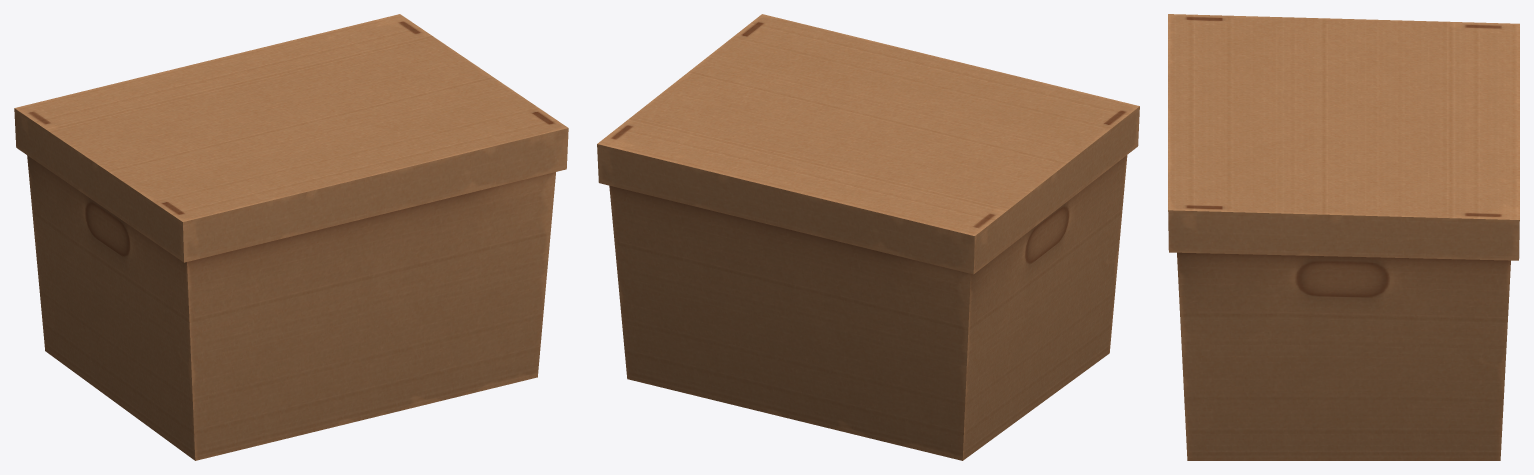
File: OfficeBox01_1.FBX
The picture shows the model from 3 angles, left to right: view 1: azimuth 30°, elevation 25°; view 2: azimuth 150°, elevation 25°; view 3: azimuth 270°, elevation 25°; orthographic projection. The views are drawn at different scales.
Parts seen in each view (by area): view 1: OfficeBox01_1; view 2: OfficeBox01_1; view 3: OfficeBox01_1.
Part boxes in pixels (<box>): OfficeBox01_1: <box>14,14,568,460</box>; OfficeBox01_1: <box>597,14,1139,460</box>; OfficeBox01_1: <box>1168,14,1519,460</box>.
Size of what is drawn, in the model's own units: 0.4115 by 0.2557 by 0.3115.
